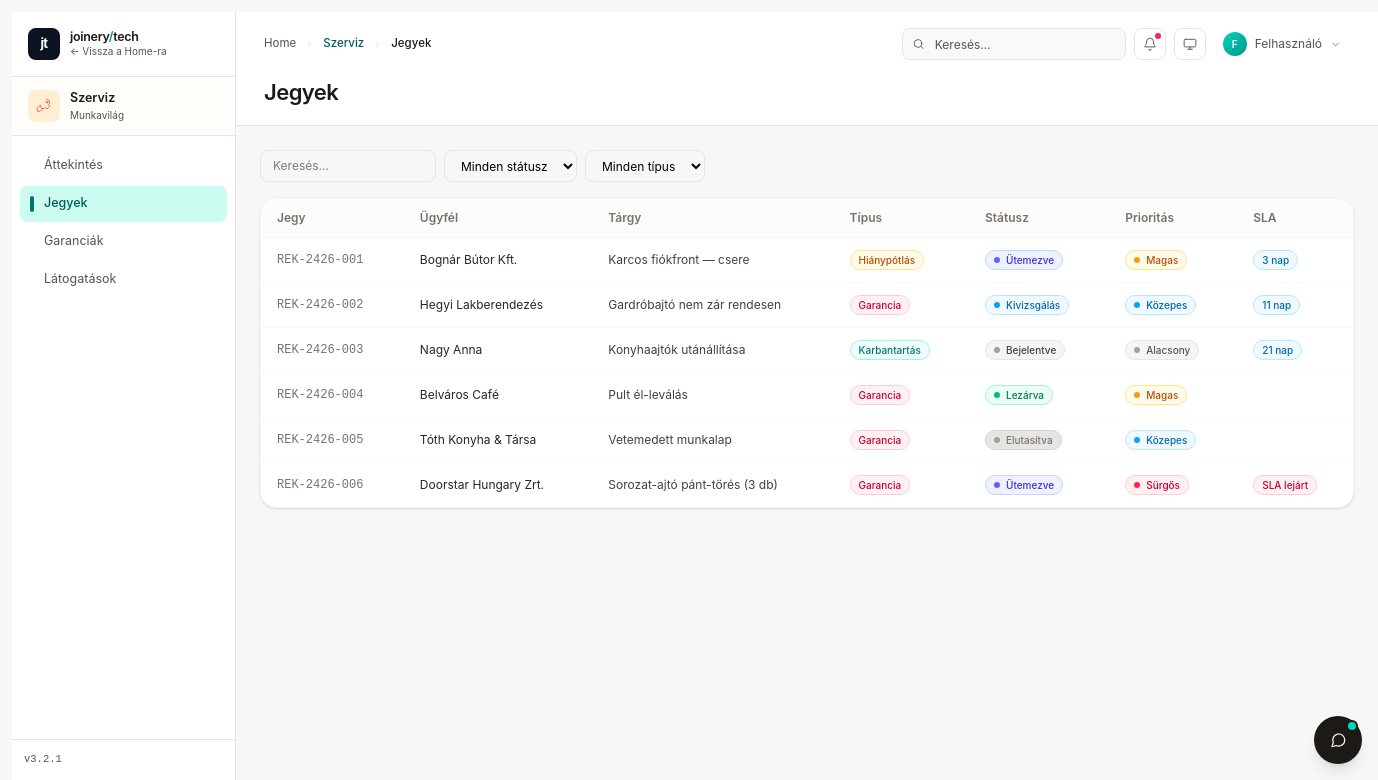
Test: ServicePage — Ticket List › search filters tickets
Type "Doorstar" into the field with placeholder "Keresés..." at (348, 166), box [260,150,436,182]
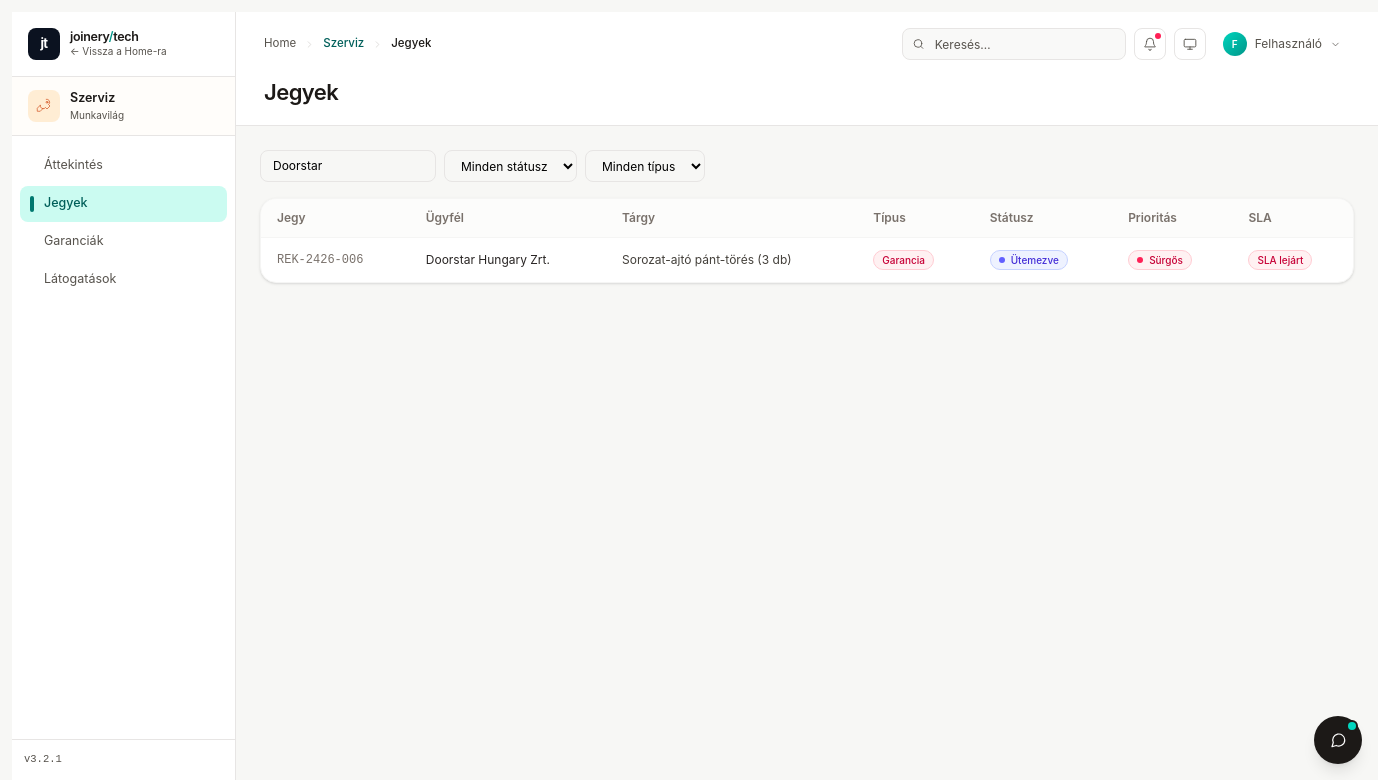
expect the text "REK-2426-006" is shown: met, box [261,238,410,282]
expect the text "REK-2426-001" is gone: met
